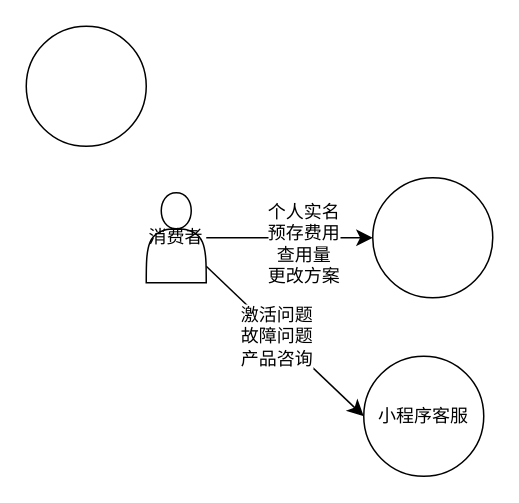
Some shapes in this 519 by 503 pixel diagram are drawn without their labels. Here are the shapes that lost their labels. From the top down, the centre of each, then its label:
(x=85, y=85): mifi
(x=432, y=237): 小程序
